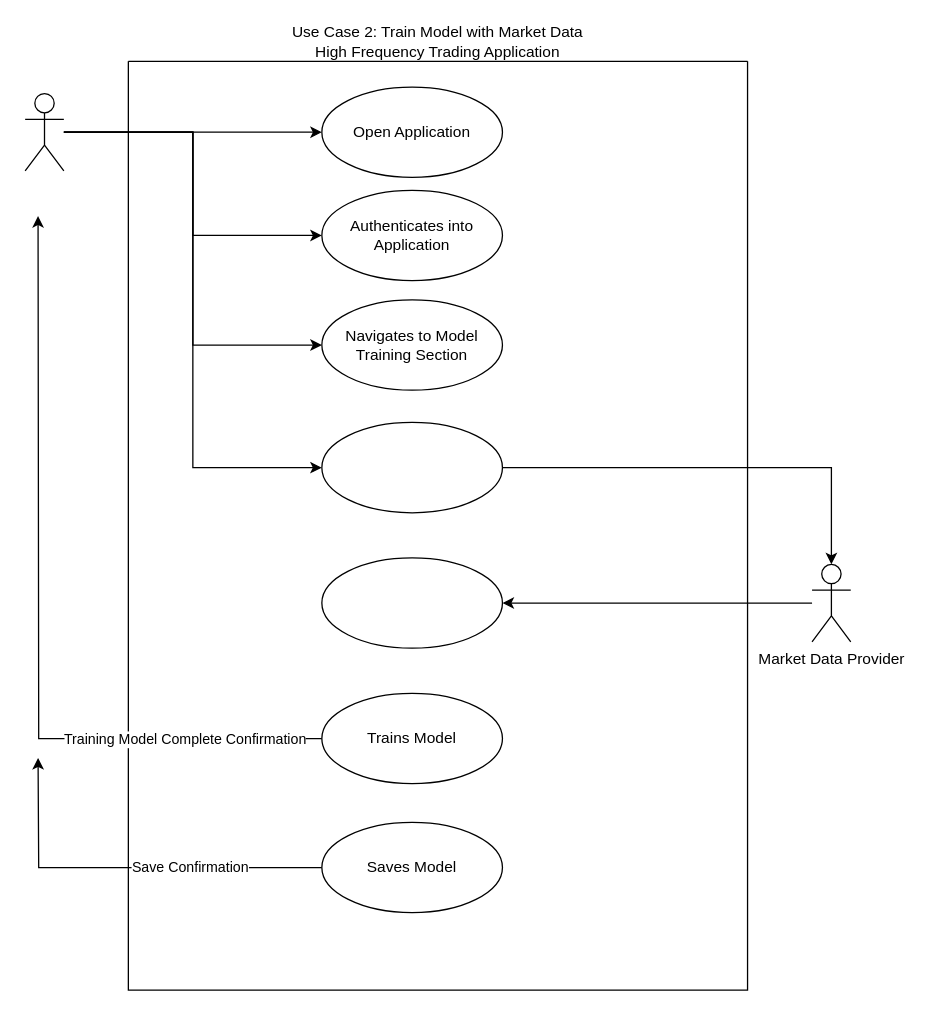
This 926x1013 diagram has some shape labels left out. The shapes that lost their labels are listed below. From the top down, each one's centre as x and y in pixels, then its label:
At (44,131): "Trader".
At (411,467): "Selects Market Dataset(s)".
At (411,602): "Retrieves Relevant Market Data".
